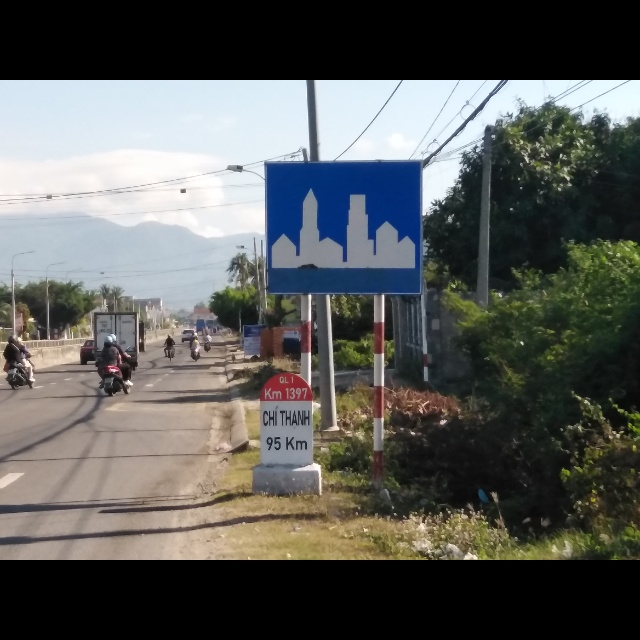Khu đông dân cư: (261, 160, 425, 298)
